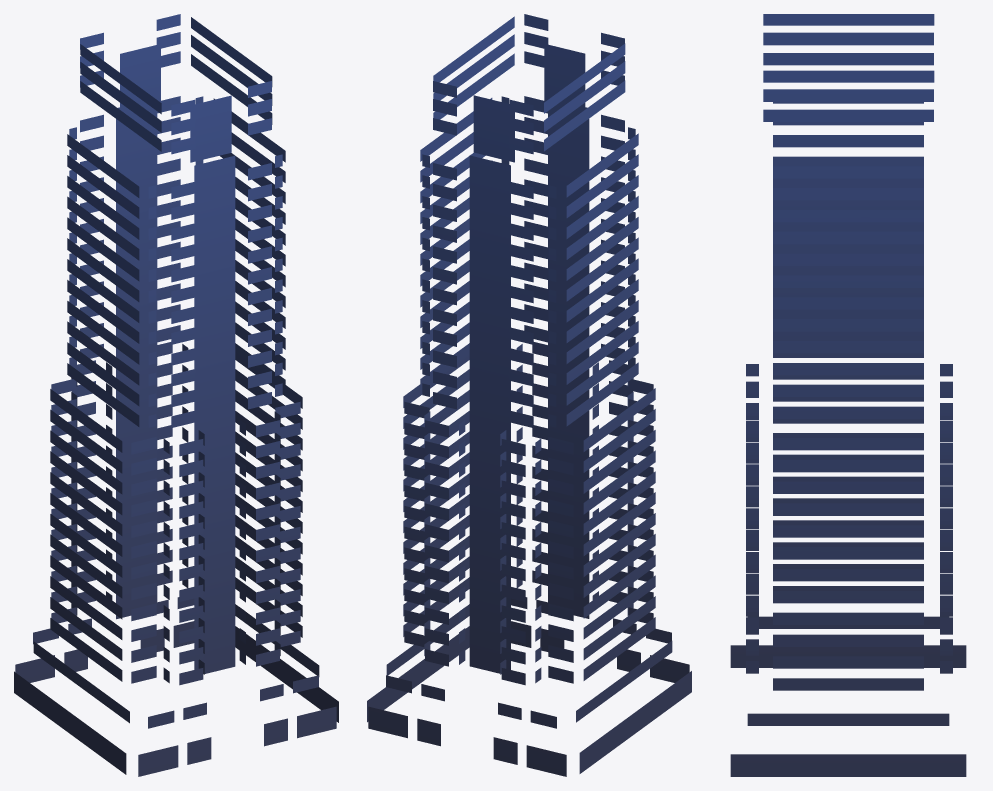
Rendered from windowRefl.032.fbx.
The picture shows the model from 3 angles, left to right: view 1: azimuth 30°, elevation 25°; view 2: azimuth 150°, elevation 25°; view 3: azimuth 270°, elevation 25°; orthographic projection. The views are drawn at different scales.
Parts seen in each view (by area): view 1: windowRefl.032; view 2: windowRefl.032; view 3: windowRefl.032.
Part boxes in pixels (<box>): windowRefl.032: <box>14,14,338,776</box>; windowRefl.032: <box>367,14,691,776</box>; windowRefl.032: <box>730,14,966,776</box>.
Size of the model in its own units: 2110 by 2102 by 6122.
